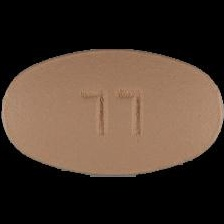53808-0791: (0, 0, 224, 224)
